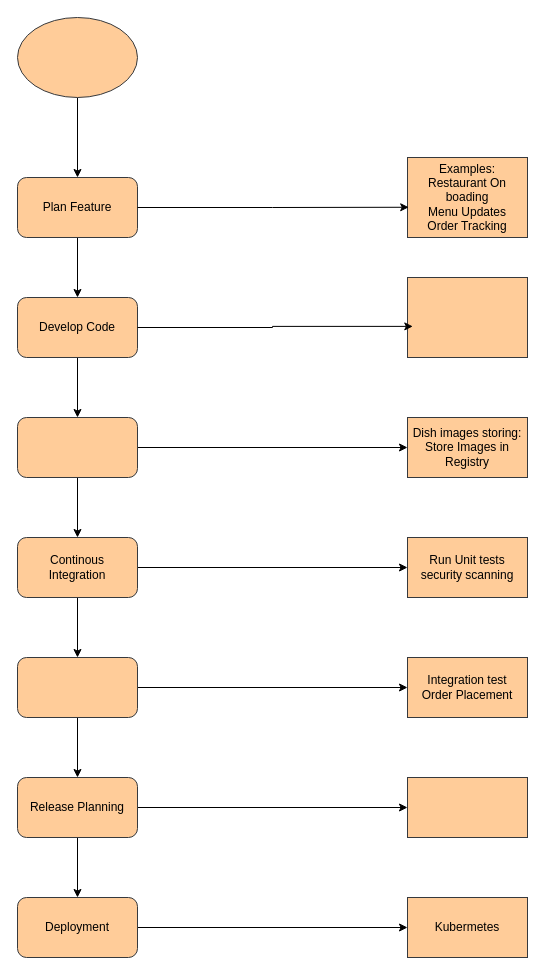
This 545x975 diagram has some shape labels left out. Here are the shapes that lost their labels. From the top down, the centre of each, then its label:
(x=77, y=57): Start
(x=467, y=317): Service: User Services Order Services Payment
(x=77, y=447): Build Dish images
(x=77, y=687): Automated testing
(x=467, y=807): Using with QA
